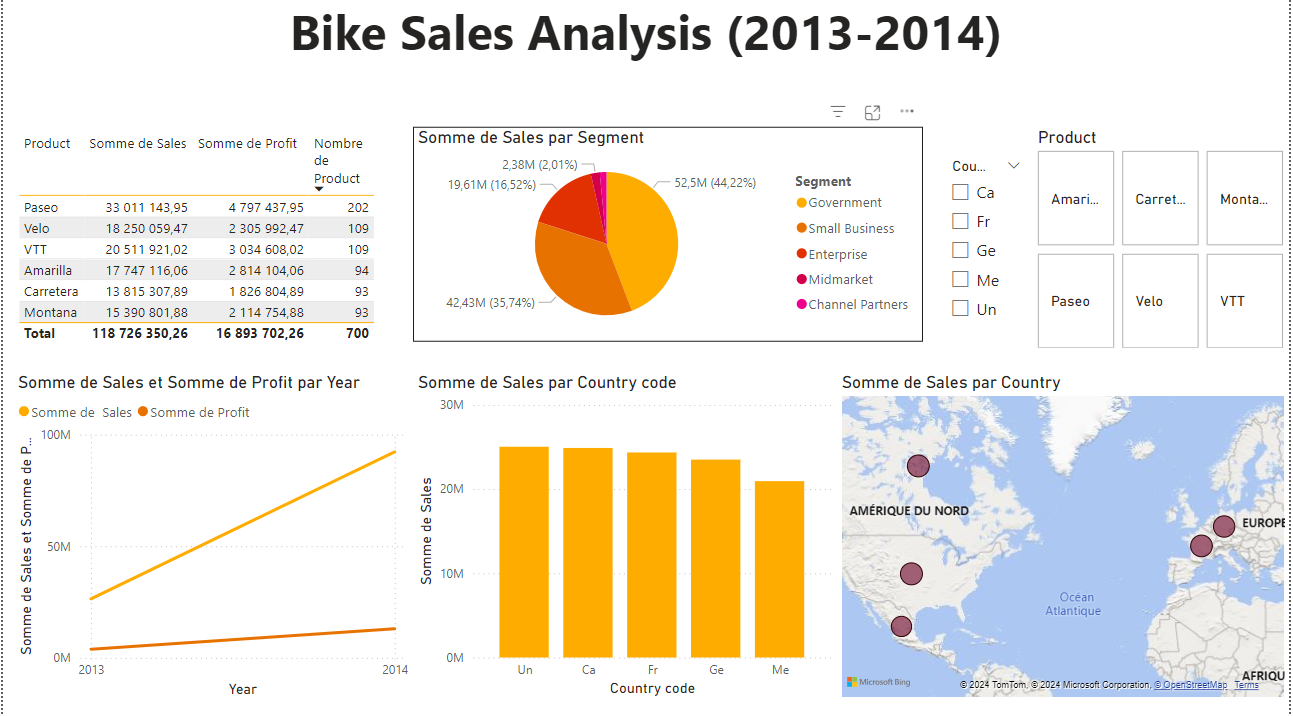

Layout of this report page (visuals, bound fields, positions):
{"tool":"powerbi","page":{"name":"Page 1","canvas":[1280,720],"ordinal":0},"visuals":[{"type":"tableEx","fields":{"Values":["Ventes.Product","Sum(Ventes. Sales)","Sum(Ventes.Profit)","CountNonNull(Ventes.Product)"]},"box":[9.6,133.4,377.4,229.2],"z":0},{"type":"clusteredColumnChart","fields":{"Category":["Ventes.Country code"],"Y":["Sum(Ventes. Sales)"]},"box":[408,376.9,421.7,328.4],"z":1000},{"type":"pieChart","fields":{"Y":["Sum(Ventes. Sales)"],"Category":["Ventes.Segment"]},"box":[408,133.1,507.5,214],"z":2000},{"type":"map","fields":{"Category":["Ventes.Country"],"Size":["Sum(Ventes. Sales)"]},"box":[829.7,376.9,450.3,328.4],"z":3000},{"type":"lineChart","fields":{"Category":["Ventes.Year"],"Y":["Sum(Ventes. Sales)","Sum(Ventes.Profit)"]},"box":[10,376.9,398.1,328.4],"z":4000},{"type":"slicer","fields":{"Values":["Ventes.Country code"]},"box":[931.7,159.2,93.3,200.3],"z":5000},{"type":"advancedSlicerVisual","fields":{"Values":["Ventes.Product"]},"box":[1025,133.1,255,226.4],"z":6000},{"type":"textbox","box":[0,0,1280,90.8],"z":7000}]}

Visuals, with their boxes in screenshot pixels (x1, y1, x2, y2), scaled from the page's 1280x720 canvas onto the 1293x716 screenshot:
tableEx - Ventes.Product x Sum(Ventes. Sales): (left=10, top=133, right=391, bottom=361)
clusteredColumnChart - Ventes.Country code x Sum(Ventes. Sales): (left=412, top=375, right=838, bottom=701)
pieChart - Sum(Ventes. Sales) x Ventes.Segment: (left=412, top=132, right=925, bottom=345)
map - Ventes.Country x Sum(Ventes. Sales): (left=838, top=375, right=1292, bottom=701)
lineChart - Ventes.Year x Sum(Ventes. Sales): (left=10, top=375, right=412, bottom=701)
slicer - Ventes.Country code: (left=941, top=158, right=1035, bottom=358)
advancedSlicerVisual - Ventes.Product: (left=1035, top=132, right=1292, bottom=358)
textbox: (left=0, top=0, right=1292, bottom=90)
